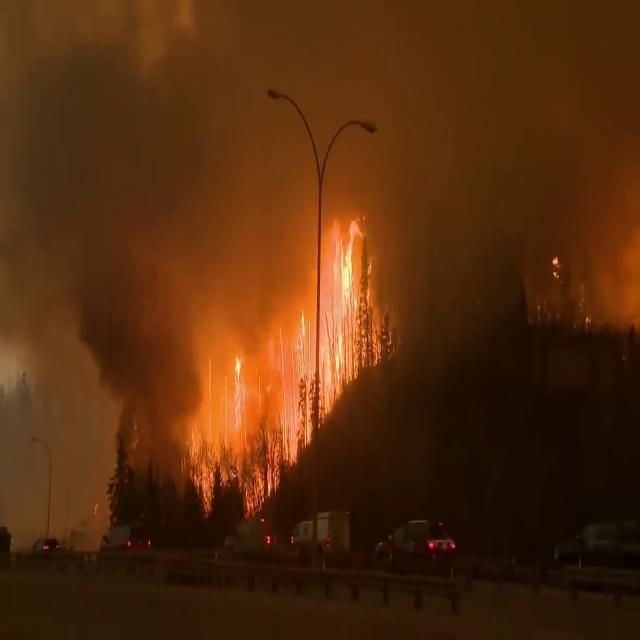Fire: (179, 315, 322, 489), (297, 198, 387, 418)
Smoke: (0, 0, 170, 550), (365, 0, 640, 333)
